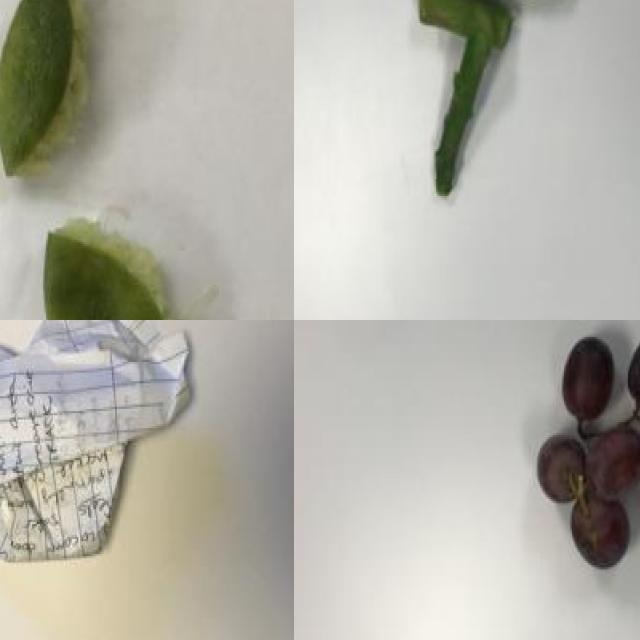compost: (0, 0, 229, 320), (400, 0, 612, 212), (524, 320, 640, 583)
paper: (0, 320, 209, 564)
